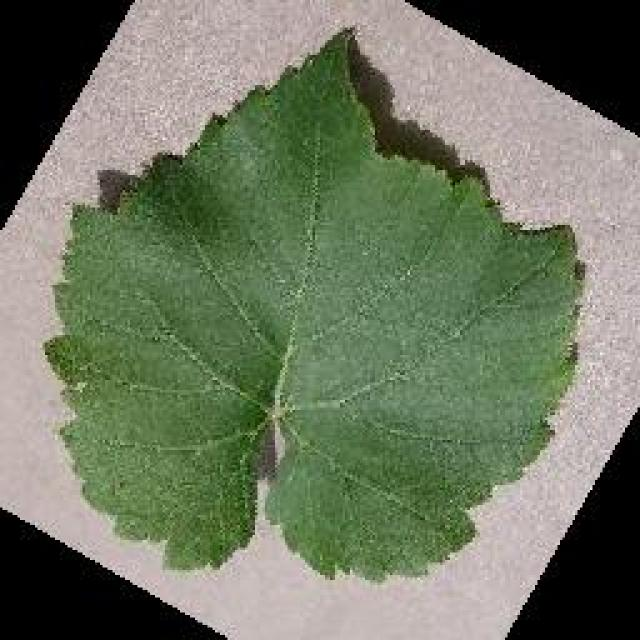Grape___healthy: (48, 32, 578, 575)
